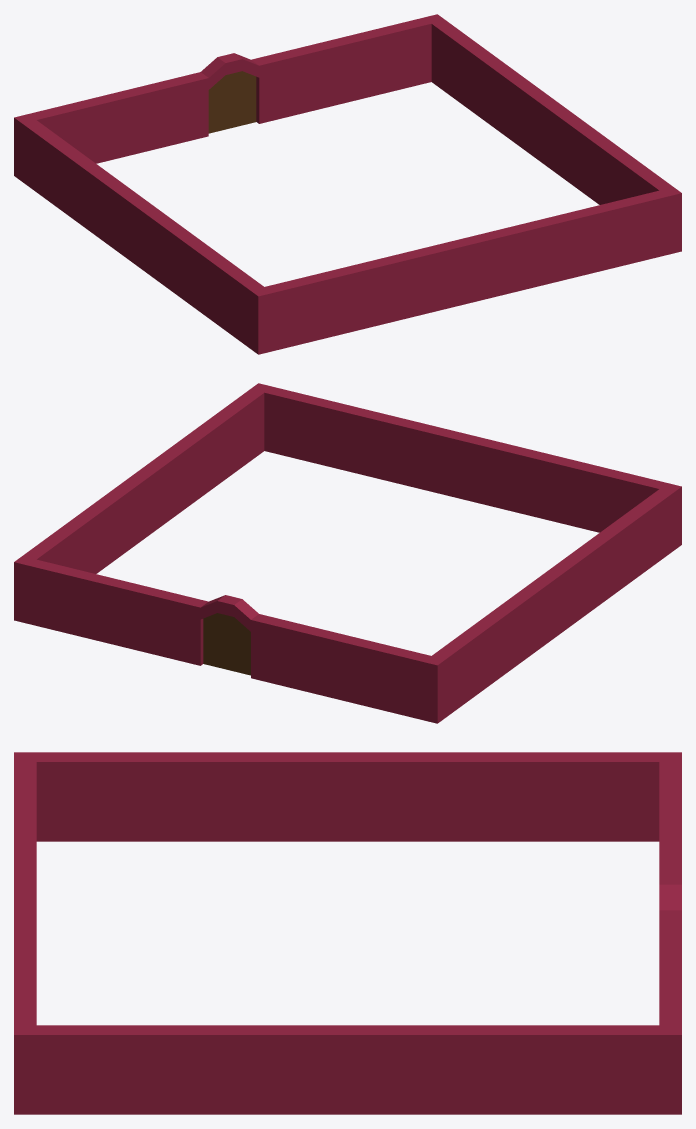
Rendered from OneDoor_N.fbx.
3 views of the same model, one above another, from view 1: azimuth 30°, elevation 25°; view 2: azimuth 150°, elevation 25°; view 3: azimuth 270°, elevation 25° (orthographic). The views are drawn at different scales.
Parts seen in each view (by area): view 1: walls, N_door; view 2: walls, N_door; view 3: walls.
Part boxes in pixels (x1,y1,x2,y2): walls: (14,14,681,354); N_door: (208,71,256,133); walls: (14,383,681,723); N_door: (203,613,250,675); walls: (14,752,681,1114).
Size of the model in its own units: 3567 by 556 by 3566.
